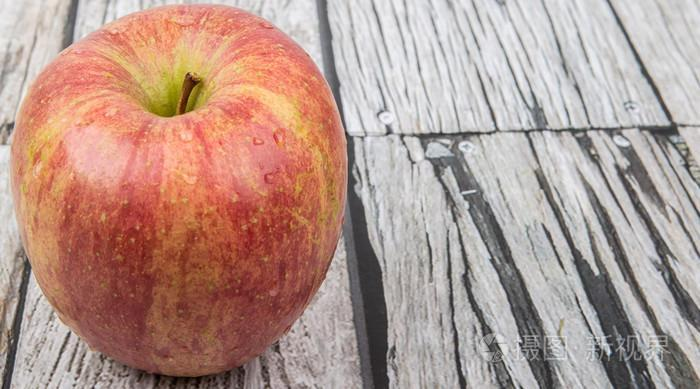apple: (10, 5, 350, 371)
